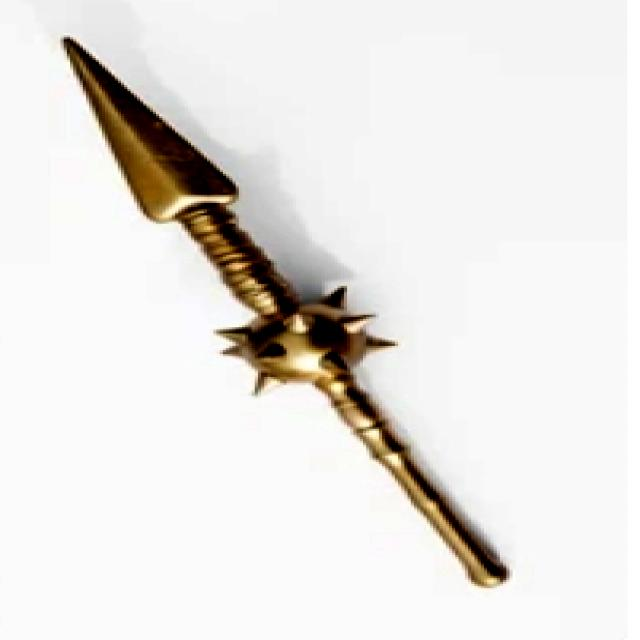spear: (47, 25, 530, 601)
